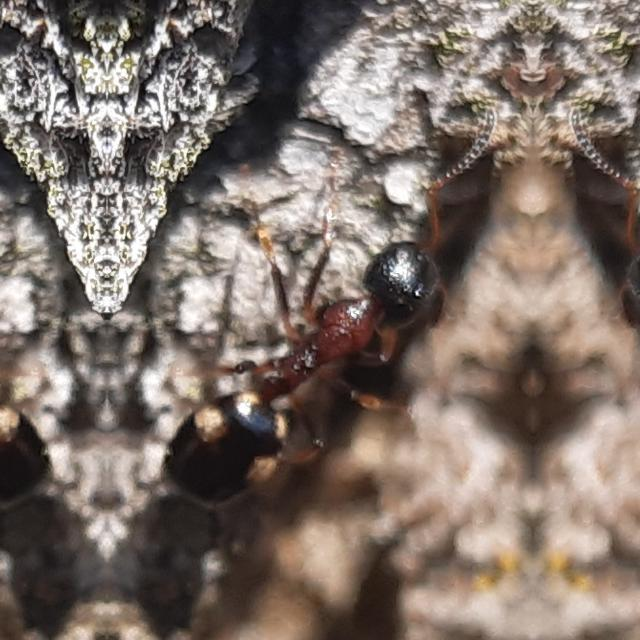Dolichoderus: (110, 108, 492, 614), (0, 108, 100, 614)
